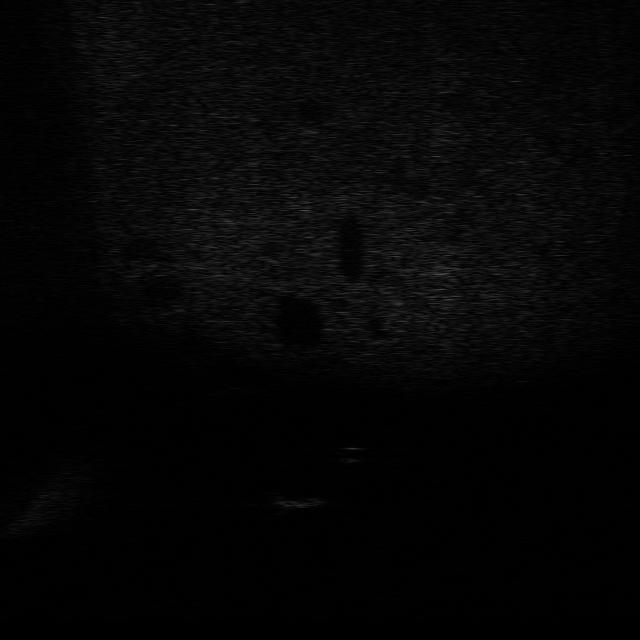ball: (330, 440, 371, 468)
square cage: (256, 486, 332, 519)
